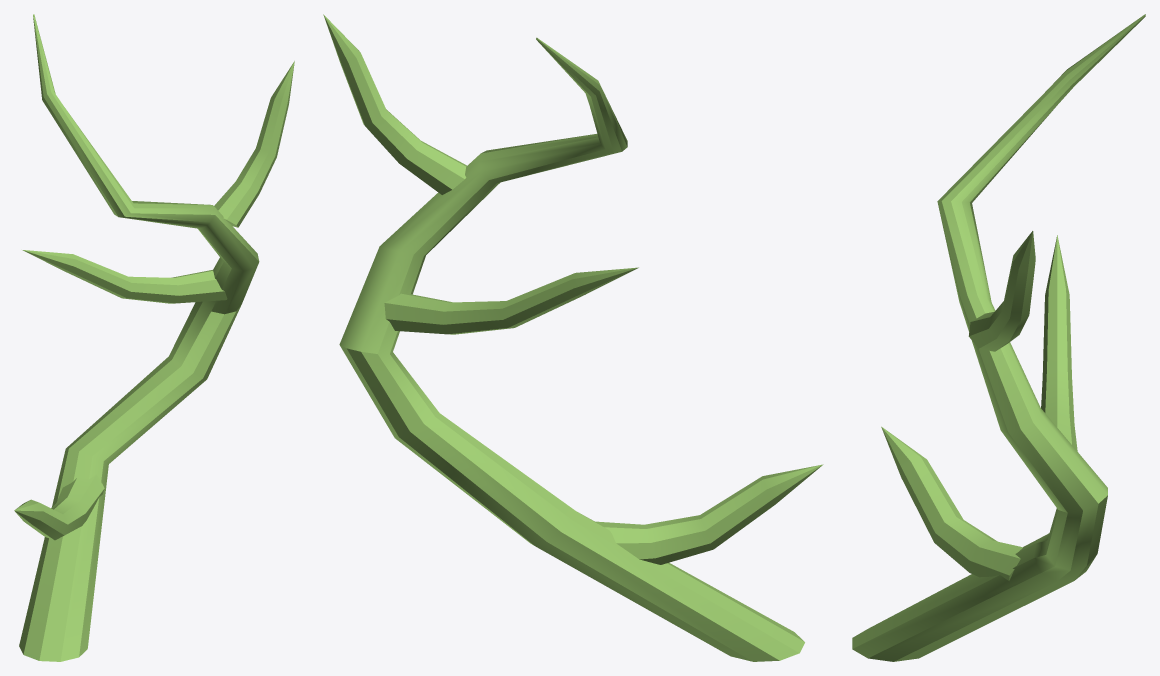
Rendered from md_plant_v2.fbx.
3 renders of one model, left to right at view 1: azimuth 30°, elevation 25°; view 2: azimuth 150°, elevation 25°; view 3: azimuth 270°, elevation 25°, orthographic. The views are drawn at different scales.
Visible parts, largest first — view 1: pCylinder15; view 2: pCylinder15; view 3: pCylinder15.
Part boxes in pixels (x1,y1,x2,y2): pCylinder15: [14, 14, 294, 661]; pCylinder15: [323, 14, 823, 661]; pCylinder15: [852, 14, 1145, 661].
Size of the model in its own units: 5.89 by 8.92 by 3.49.
